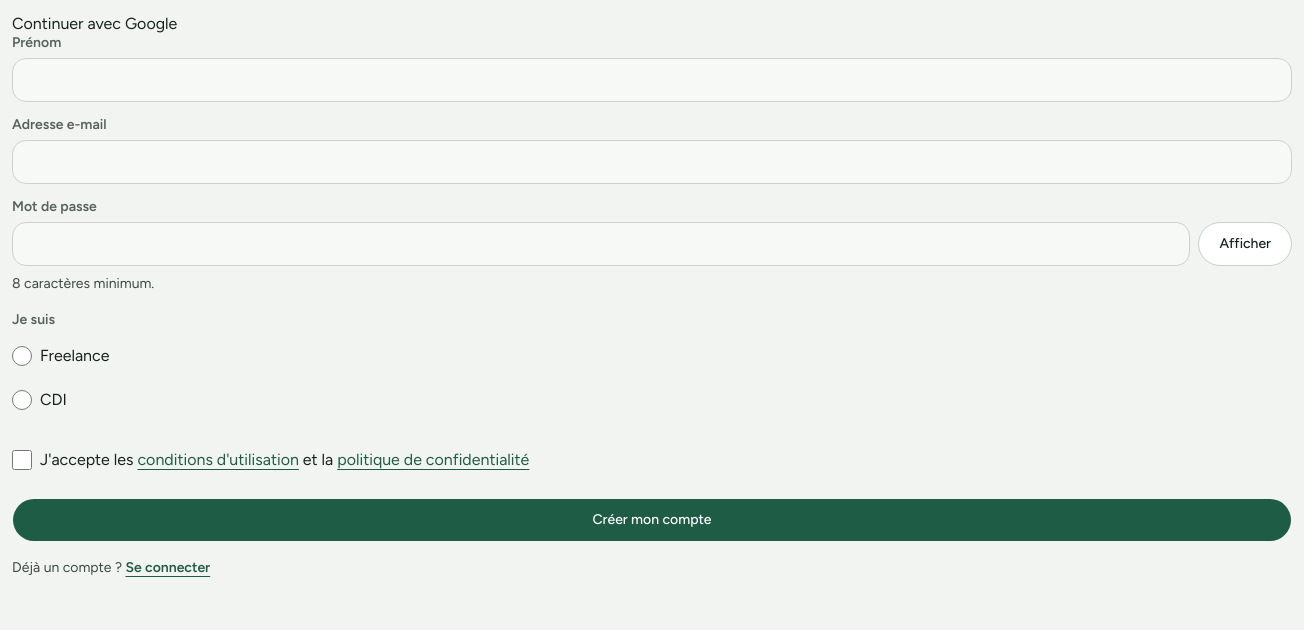
Scenario: SignUpForm › moves focus to the error alert after a server error
Type "Camille" into the field labelled "Prénom".
click(652, 80); type("Camille")  # box [12,58,1292,102]
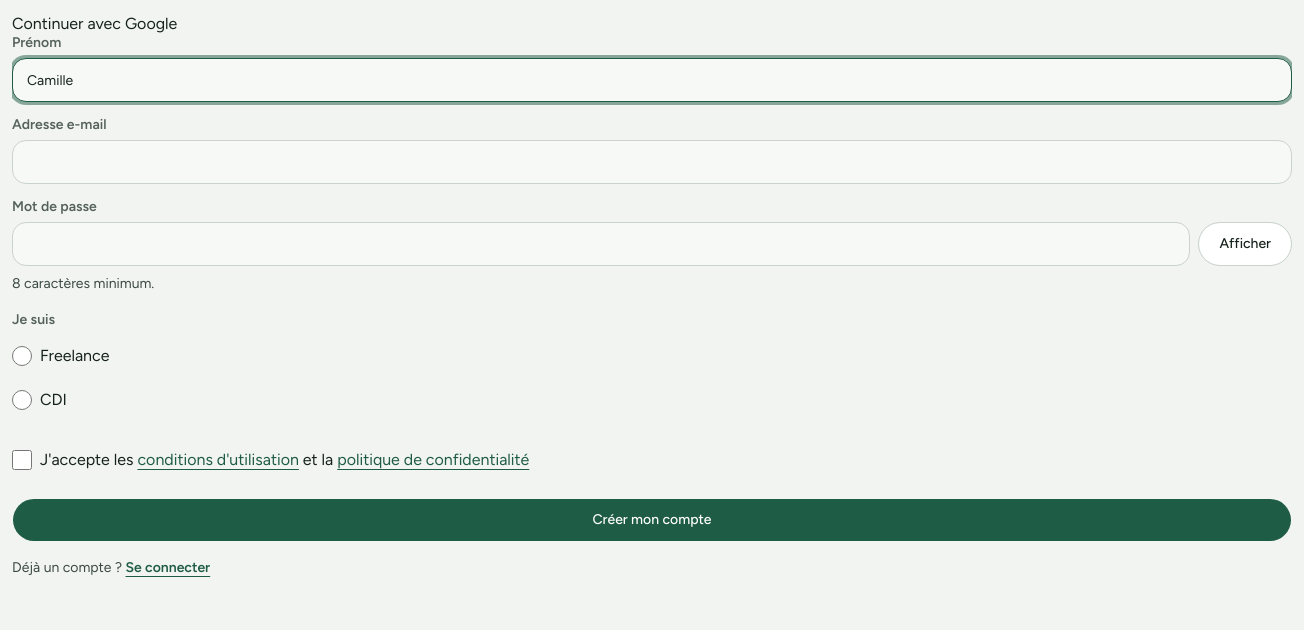
Type "camille@example.com" into the field labelled "Adresse e-mail".
click(652, 162); type("camille@example.com")  # box [12,140,1292,184]
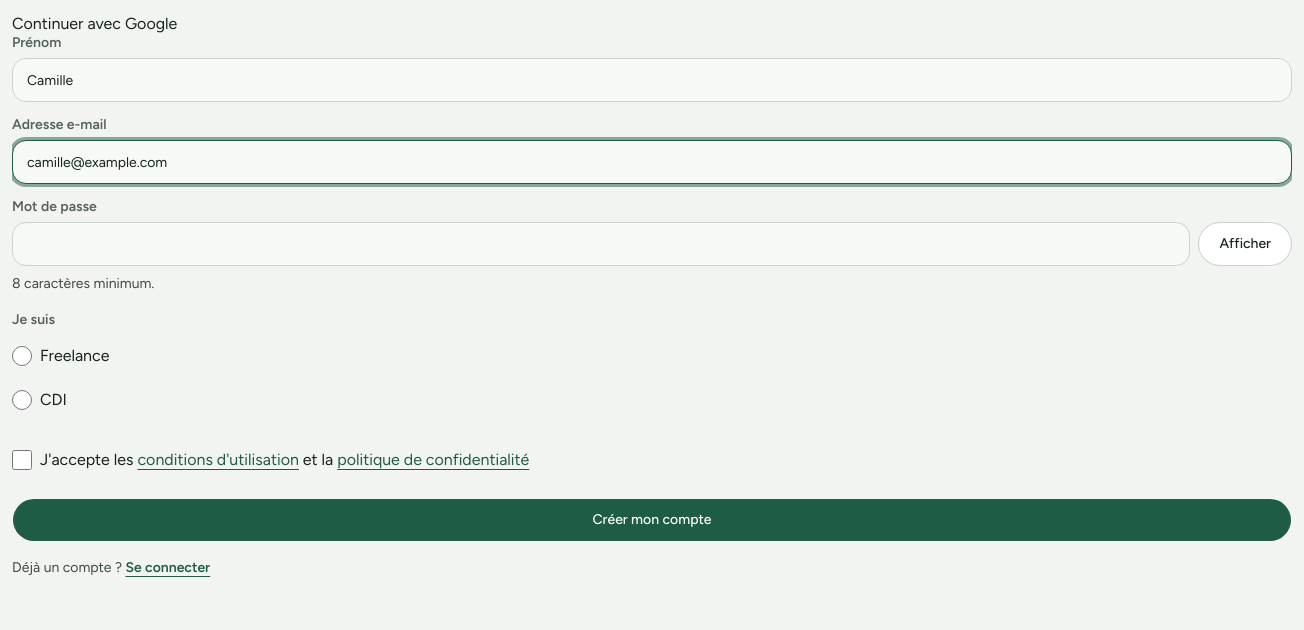
Type "long-enough-password" into the password field labelled "Mot de passe".
click(601, 244); type("long-enough-password")  # box [12,222,1190,266]
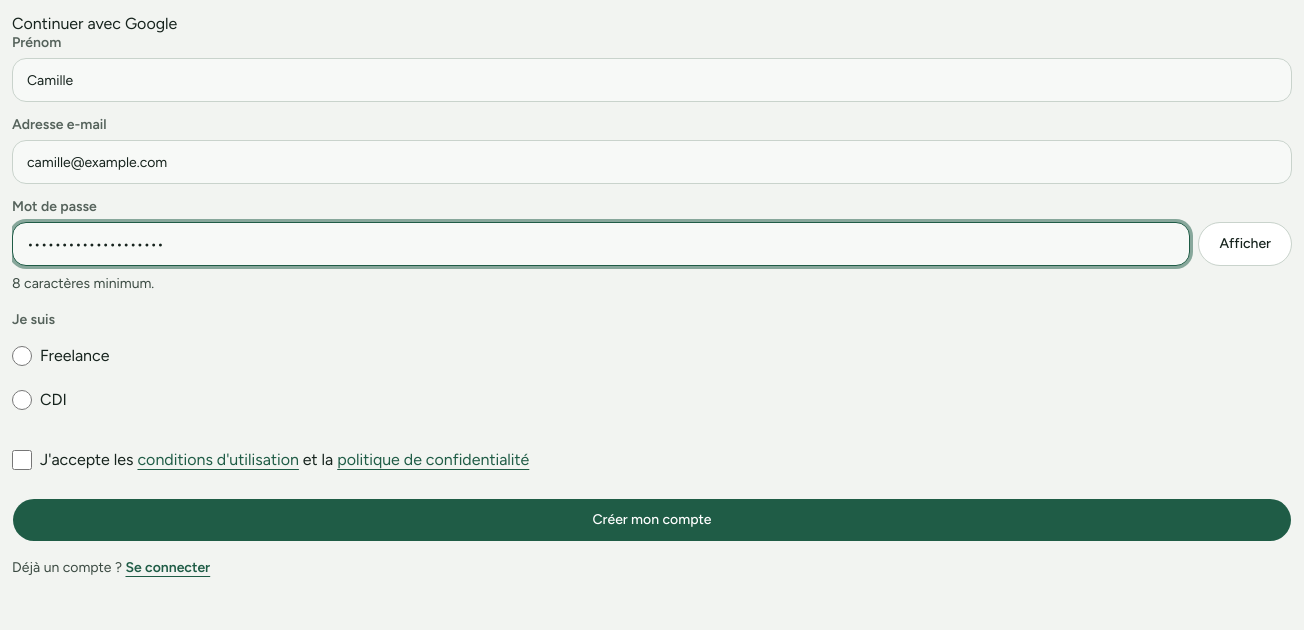
Click the radio button labelled "Freelance".
click(22, 356)  # box [12,346,32,366]
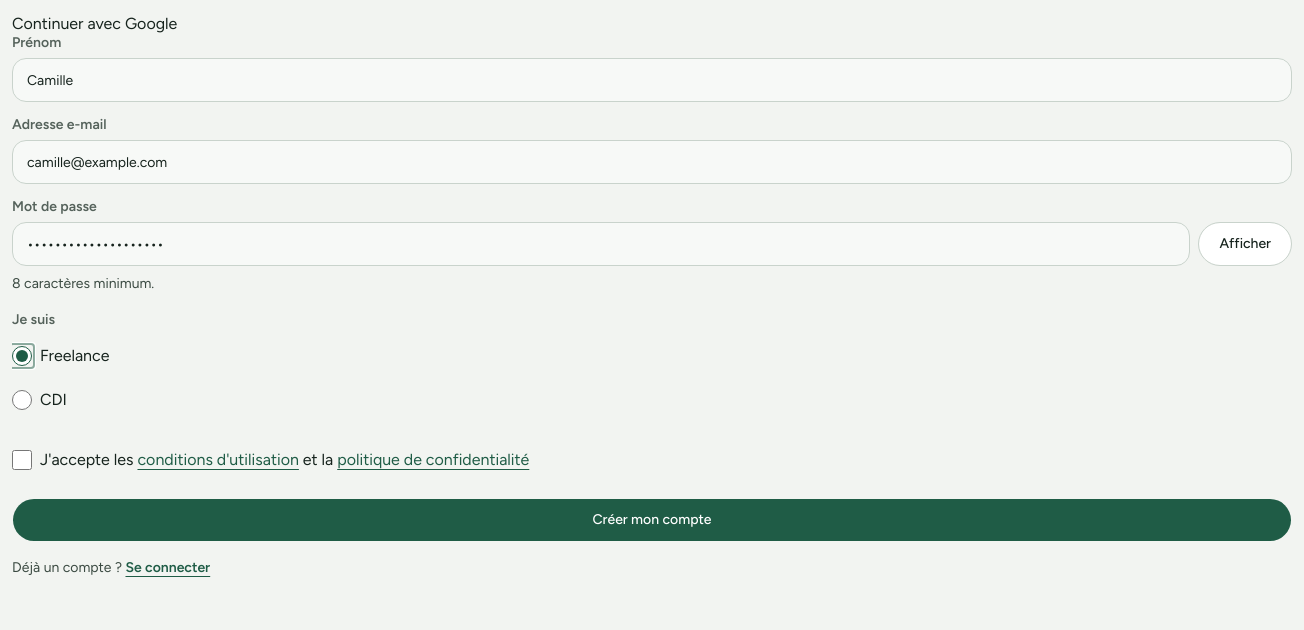
Click the checkbox.
click(22, 460)  # box [12,450,32,470]
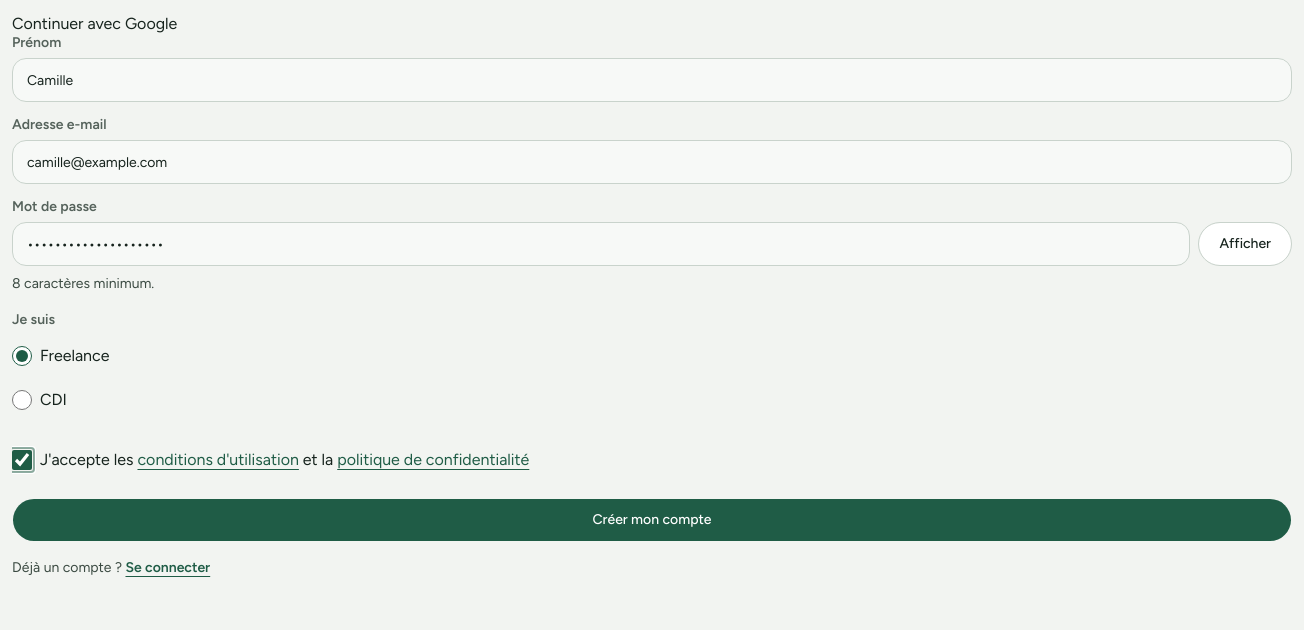
Click the button "Créer mon compte".
click(652, 520)  # box [12,498,1292,542]
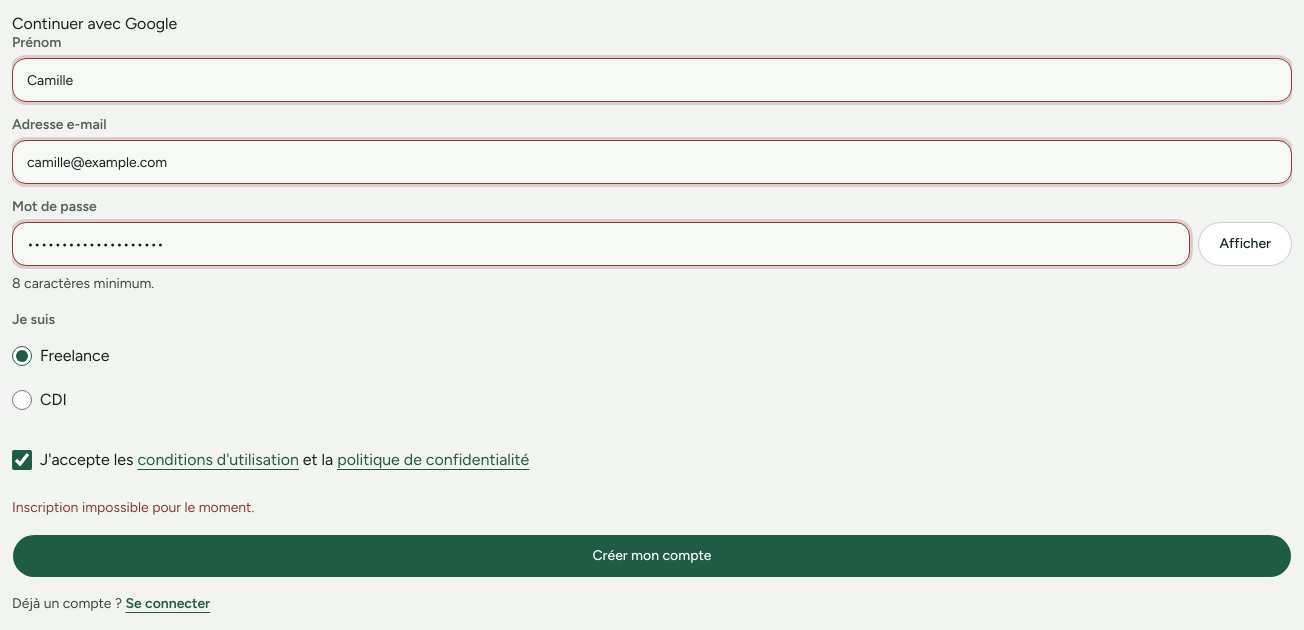
Expected: the message reads "Inscription impossible pour le moment.", [12,499,254,516]
